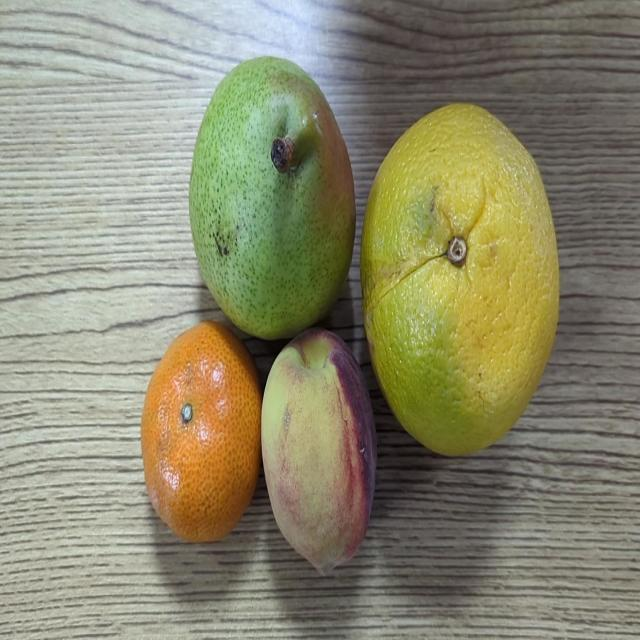Jeruk: (358, 100, 566, 460)
Jeruk Mandarin: (136, 321, 261, 550)
Persik: (256, 321, 386, 583)
Pir: (189, 48, 360, 344)
